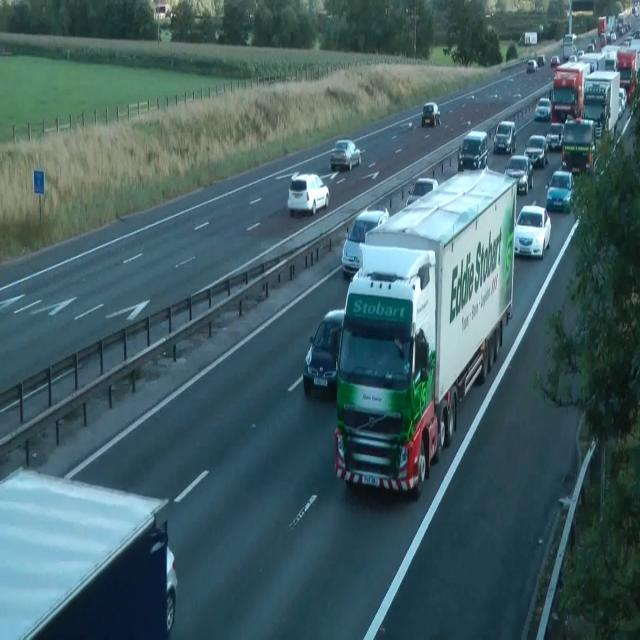bus: (303, 308, 345, 398), (341, 206, 389, 278), (513, 204, 551, 258), (287, 172, 329, 215), (544, 170, 574, 212), (503, 153, 533, 194), (166, 545, 178, 634), (329, 138, 361, 170), (406, 177, 438, 207), (493, 120, 517, 154), (524, 134, 548, 168), (545, 123, 564, 150), (422, 101, 441, 127), (534, 97, 552, 121), (618, 87, 626, 118), (526, 59, 538, 73), (550, 55, 560, 67), (584, 42, 594, 52), (538, 54, 546, 66), (576, 50, 584, 60)
jeep: (0, 465, 178, 638), (560, 116, 596, 174), (457, 129, 488, 169)
minibus: (333, 164, 517, 497), (582, 70, 620, 142), (550, 60, 589, 124), (153, 3, 171, 20), (518, 31, 537, 45)
